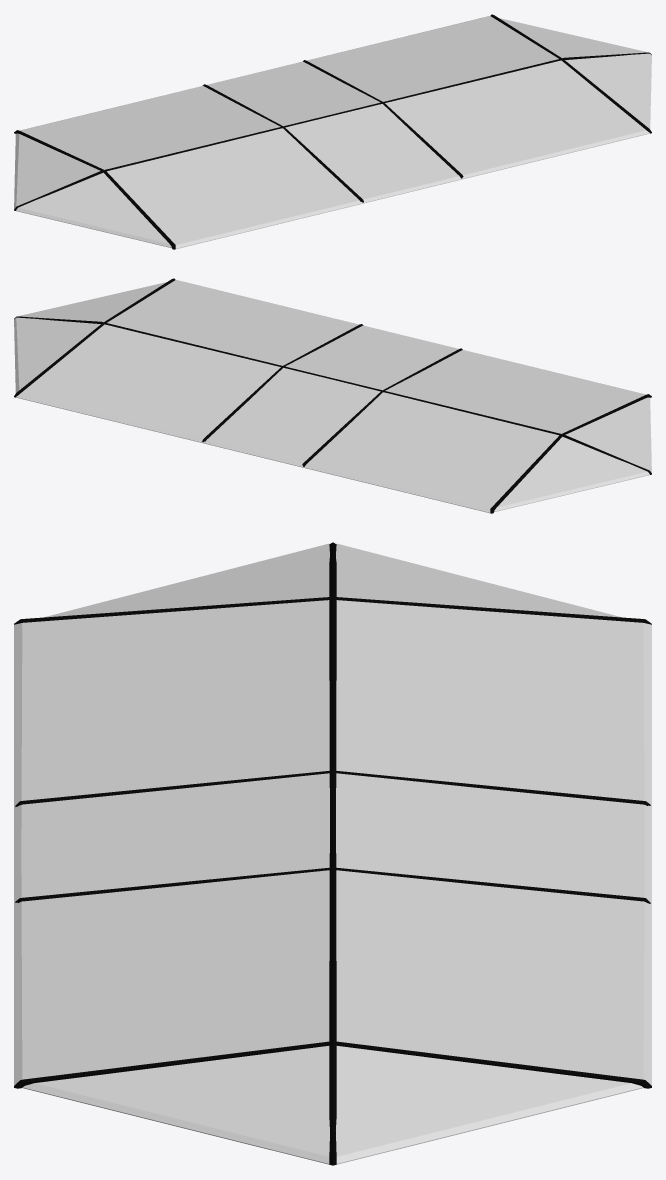
Rendered from Teto_Lobby_PrimeiroAndar.gltf.
3 views of the same model, one above another, from view 1: azimuth 30°, elevation 25°; view 2: azimuth 150°, elevation 25°; view 3: azimuth 270°, elevation 25° (orthographic). The views are drawn at different scales.
Visible parts, largest first — view 1: Teto.004; view 2: Teto.004; view 3: Teto.004.
Part boxes in pixels (bbox=[...]): Teto.004: bbox=[14, 14, 651, 249]; Teto.004: bbox=[14, 278, 651, 513]; Teto.004: bbox=[14, 542, 651, 1165].
Bounding box in the file's own units: 79.98 × 2.22 × 34.8.
1 material, 1 textured.
